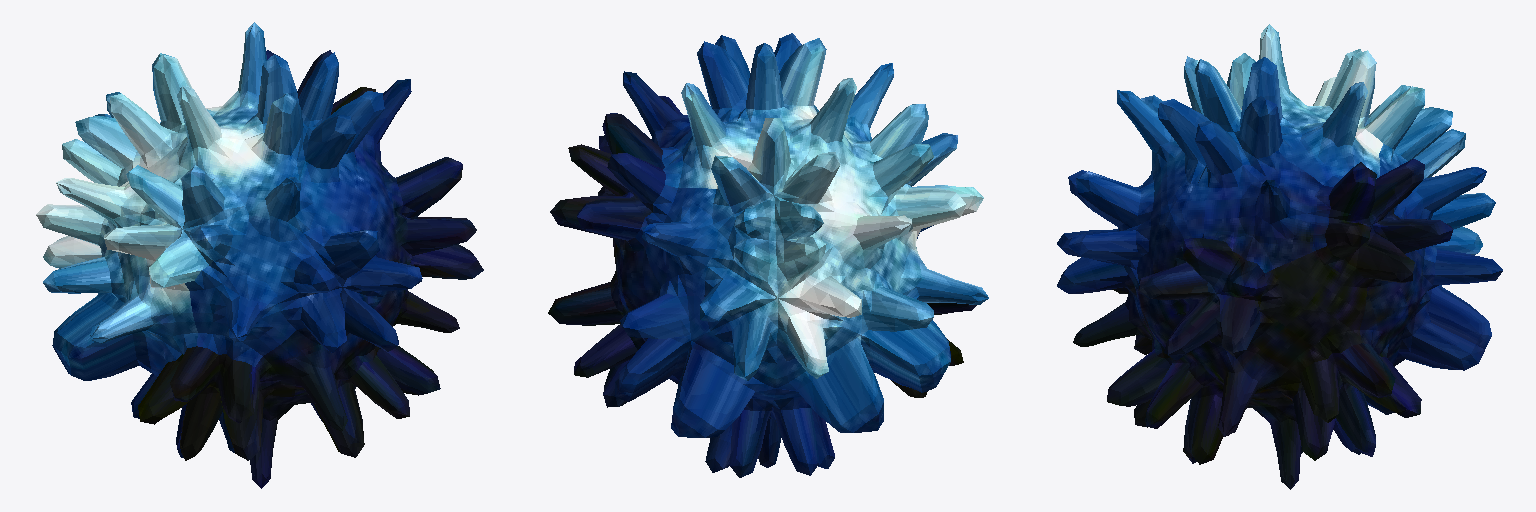
3 renders of one model, left to right at view 1: azimuth 30°, elevation 25°; view 2: azimuth 150°, elevation 25°; view 3: azimuth 270°, elevation 25°, orthographic.
Visible parts, largest first — view 1: sharpsphere1:pSolid1 group13; view 2: sharpsphere1:pSolid1 group13; view 3: sharpsphere1:pSolid1 group13.
Part boxes in pixels (bbox=[...]): sharpsphere1:pSolid1 group13: bbox=[36, 22, 483, 488]; sharpsphere1:pSolid1 group13: bbox=[548, 33, 988, 477]; sharpsphere1:pSolid1 group13: bbox=[1057, 24, 1502, 489].
Bounding box in the file's own units: 11.87 × 11.99 × 11.86.
Materials: 1 (1 with a texture image).